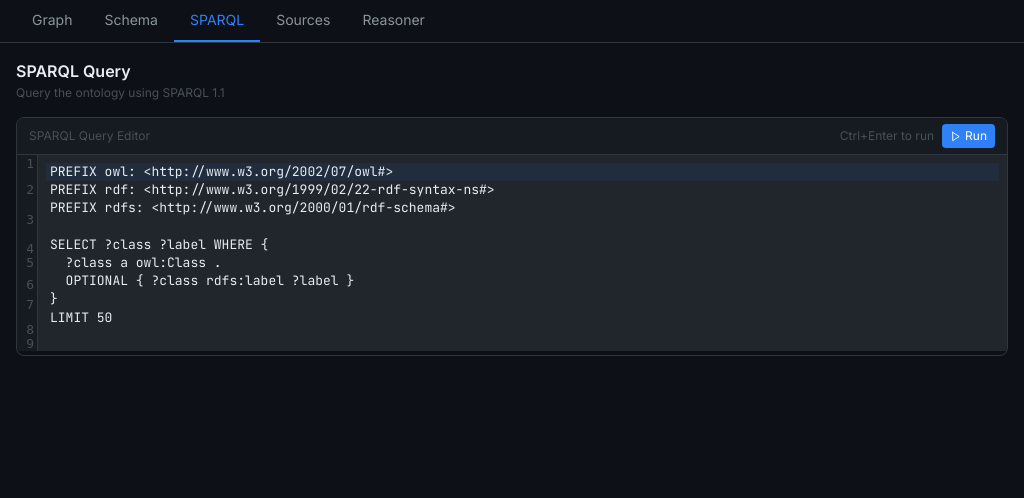
Test: SPARQLPage › shows query results after clicking Run
Click the button "Run" at (969, 136), box [942,124,995,148]
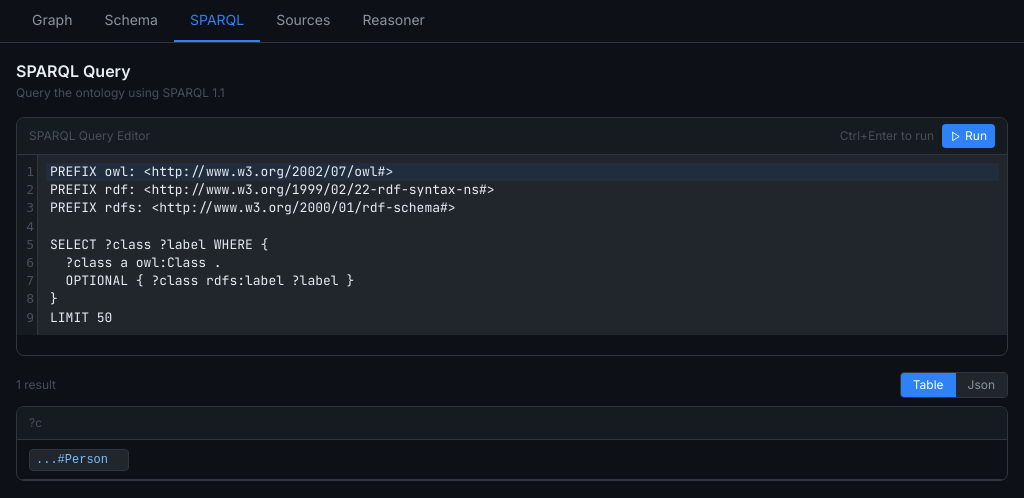
Result: the text "1 result" is shown at [16,377,56,393]
